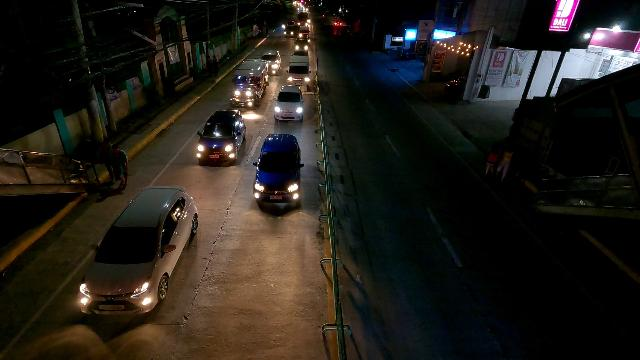car: (77, 186, 198, 315), (253, 134, 304, 207), (196, 109, 246, 165), (275, 85, 303, 121), (260, 50, 281, 74), (293, 38, 310, 54)
jeepney: (230, 58, 269, 106)
van: (287, 55, 311, 85)
